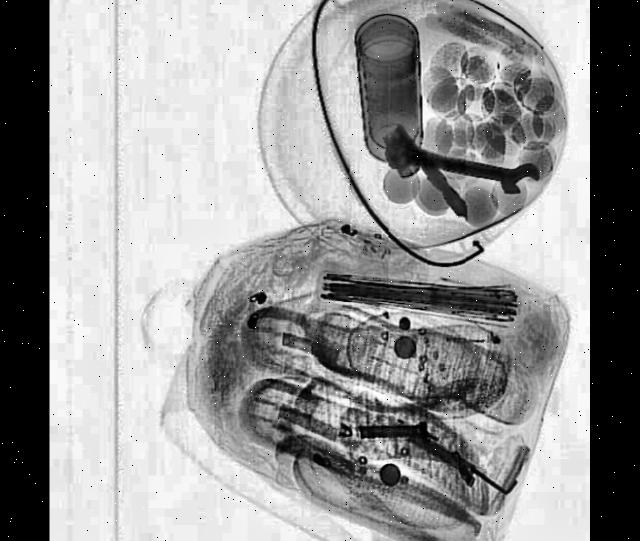Wrench: (383, 137, 540, 202)
